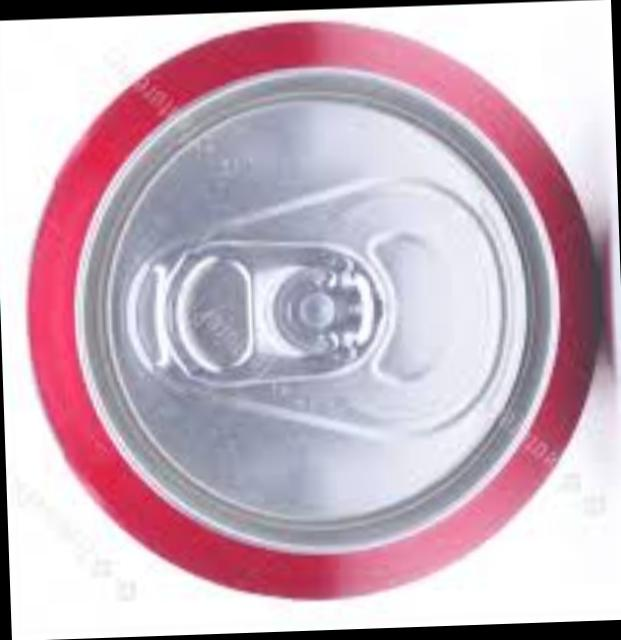metal: (23, 27, 589, 601)
